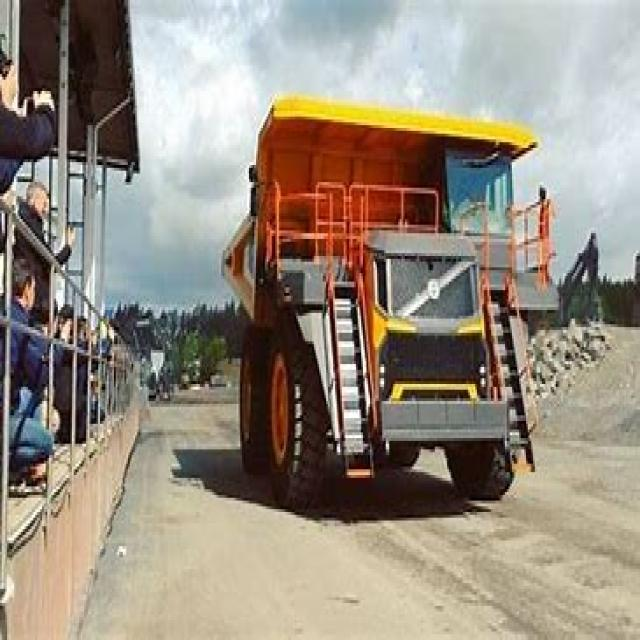dump_truck: (216, 82, 573, 518)
